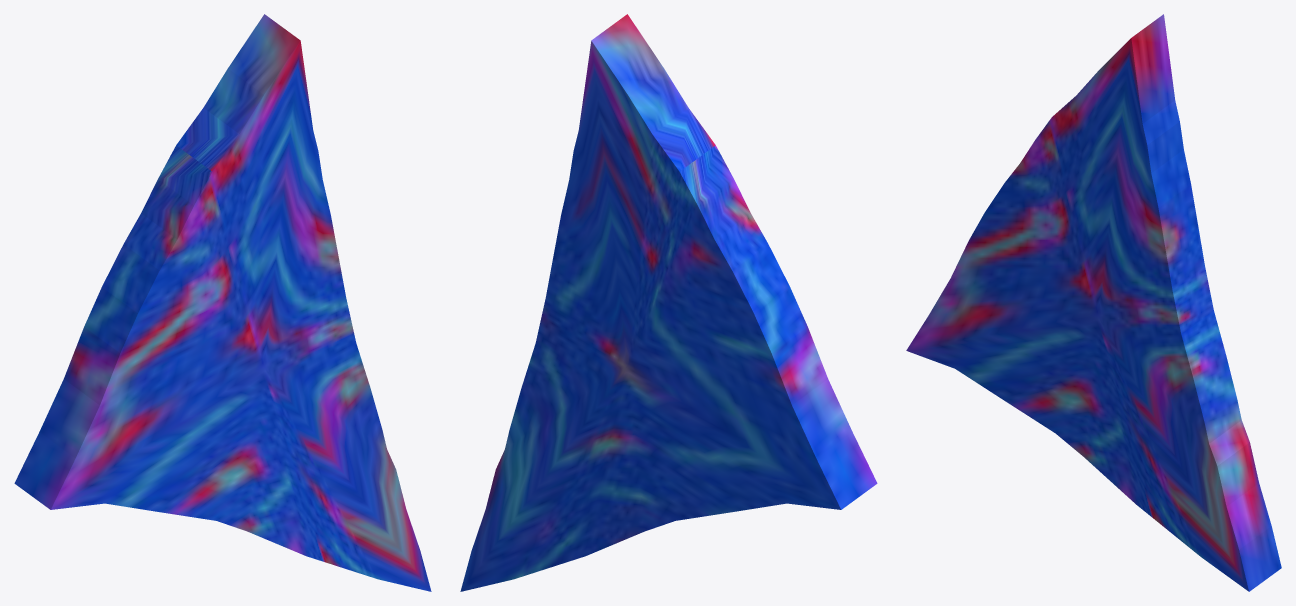
The model's file is tri.dae.
The picture shows the model from 3 angles, left to right: view 1: azimuth 30°, elevation 25°; view 2: azimuth 150°, elevation 25°; view 3: azimuth 330°, elevation 25°; orthographic projection. The views are drawn at different scales.
Visible parts, largest first — view 1: Cylinder; view 2: Cylinder; view 3: Cylinder.
Part boxes in pixels (x1,y1,x2,y2): Cylinder: (14, 14, 431, 591); Cylinder: (460, 14, 877, 591); Cylinder: (906, 14, 1281, 591).
Bounding box in the file's own units: 4.7 × 0.774 × 6.88.
